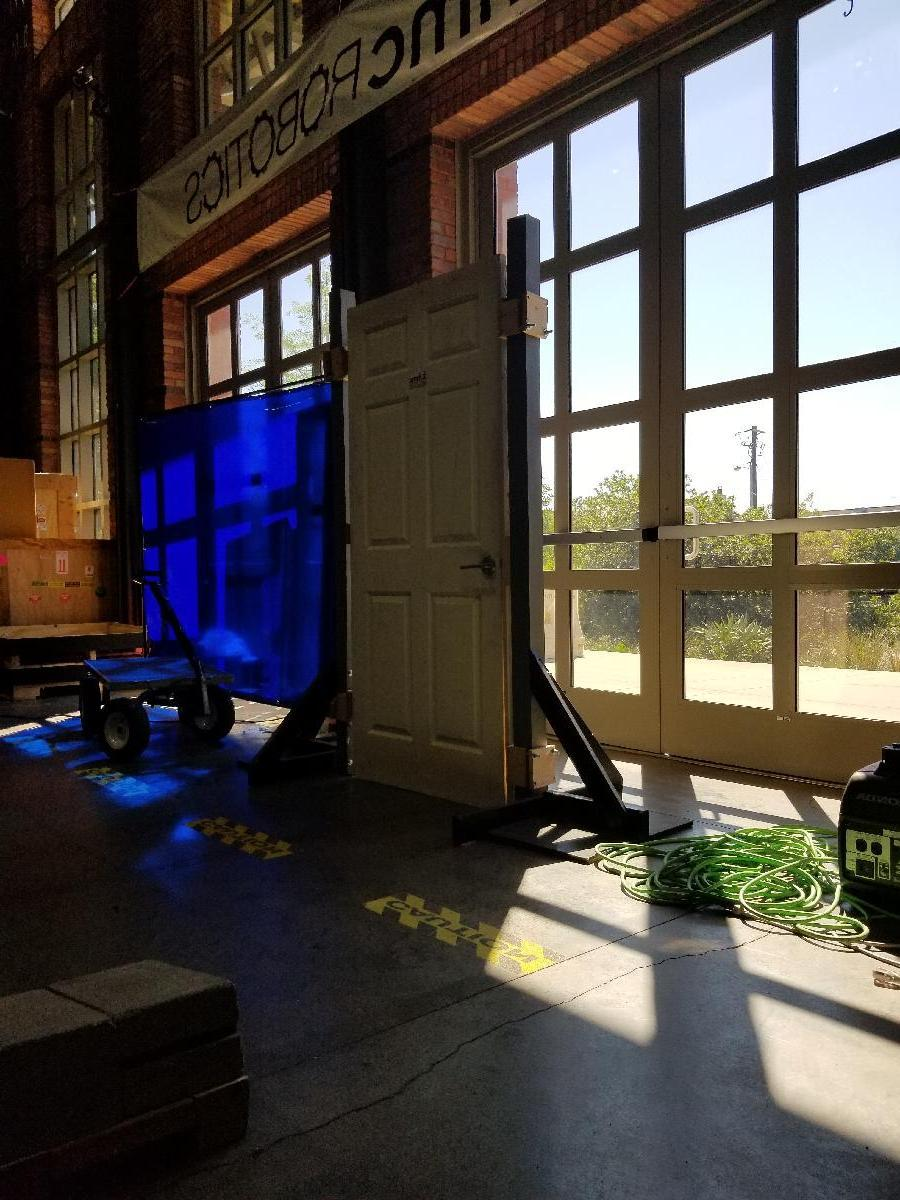door: (342, 250, 496, 802)
handle: (458, 556, 497, 578)
